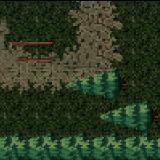Interaction: (15, 34, 56, 66)
Obstacle: (0, 131, 160, 160), (129, 100, 160, 132), (98, 69, 130, 99)
